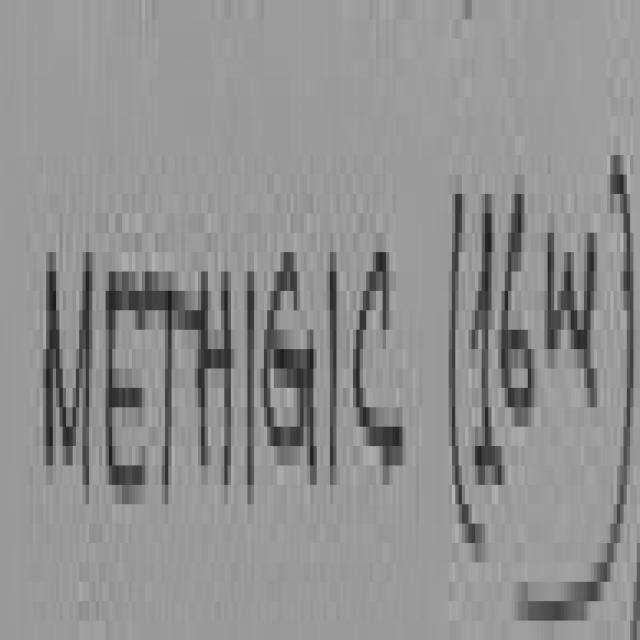1: (468, 186, 505, 485)
6: (505, 194, 534, 427)
C: (356, 252, 406, 465)
E: (106, 272, 148, 492)
G: (262, 252, 314, 485)
H: (198, 272, 234, 475)
I: (330, 252, 340, 485), (247, 272, 257, 495)
M: (46, 252, 92, 475)
T: (147, 272, 198, 495)
g: (586, 233, 600, 429)
m: (551, 242, 584, 349)
